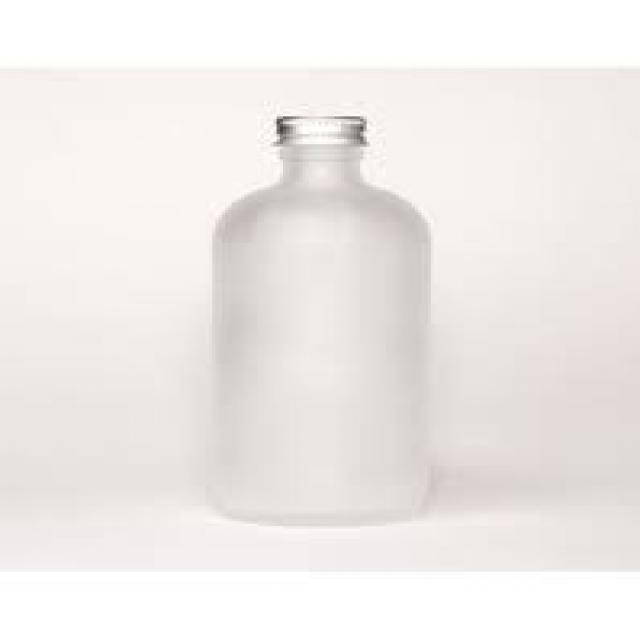Glass-Non-Biodegradable but Recyclable-: (201, 117, 436, 524)
